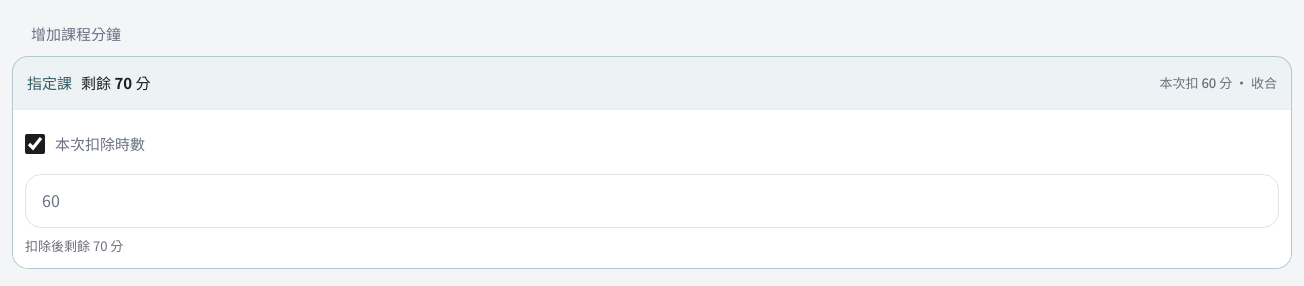
Scenario: CoachDesignatedDeductionControl balance preview › keeps a manually collapsed card closed
The width and height of the screenshot is (1304, 286).
Click the button "指定課 剩餘 70 分 本次扣 60 分 · 收合" at (50, 82), box [13, 57, 1291, 109]
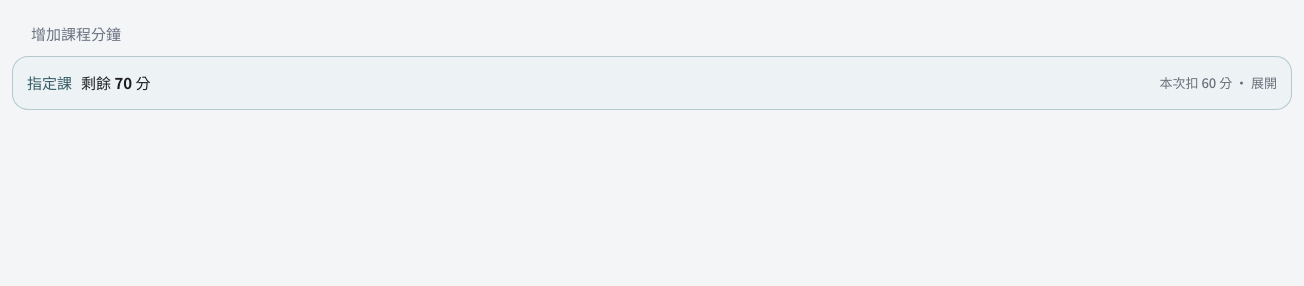
Expected: the button "指定課 剩餘 70 分 本次扣 60 分 · 展開" is collapsed, [13, 57, 1291, 109]
Expected: the label "本次扣除時數" is gone
